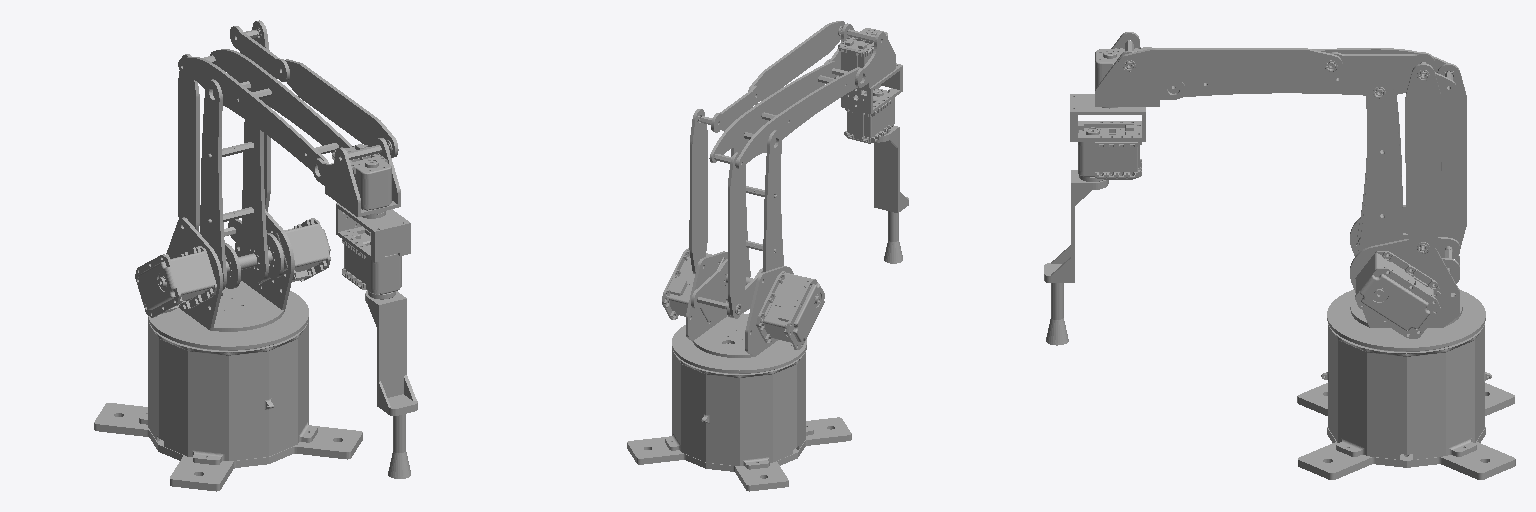
URDF robot description (palletizer_model):
<?xml version="1.0" ?>
<robot name="palletizer_model" xmlns:xacro="http://www.ros.org/wiki/xacro">
	<link name ="world"/>
	<joint name="pal_base" type="fixed">
		<parent link="world"/>
		<child link="pal_link0"/>
		<origin xyz = "0 0 0.05" rpy="0 0 -1.57" />
		<axis xyz="0 1 0" />
	</joint>

	<link name="pal_link0">
		<collision>
			<origin xyz = "0 0 0" rpy="0 0 0" />
			<geometry>
				<mesh filename="package://palletizer_model_pkg/meshes/link0.stl" scale="0.001 0.001 0.001"/>
			</geometry>
		</collision>
		<visual>
			<geometry>
				<mesh filename="package://palletizer_model_pkg/meshes/link0.stl" scale="0.001 0.001 0.001"/>
			</geometry>
			<material name="grey">
    				<color rgba="0.7 0.7 0.7 1.0"/>
  			</material>
		</visual>
	</link>
	<joint name="pal_joint0" type="continuous">
		<parent link="pal_link0"/>
		<child link="pal_link1"/>
		<origin xyz = "0 0 0.107" rpy="0 0 1.57" />
		<axis xyz="0 0 1" />
	</joint>
	<link name="pal_link1">
		<collision>
			<origin xyz = "0 0 0" rpy="0 0 0" />
			<geometry>
				<mesh filename="package://palletizer_model_pkg/meshes/link1.stl" scale="0.001 0.001 0.001"/>
			</geometry>
		</collision>
		<visual>
			<geometry>
				<mesh filename="package://palletizer_model_pkg/meshes/link1.stl" scale="0.001 0.001 0.001"/>
			</geometry>
			<material name="grey">
    				<color rgba="0.7 0.7 0.7 1.0"/>
  			</material>
		</visual>
	</link>
	<joint name="pal_joint1" type="revolute">
		<parent link="pal_link1"/>
		<child link="pal_link2"/>
		<origin xyz = "-0.0065 -0.021131 0.04662" rpy="0 -1.57 0" />
		<axis xyz="0 0 -1" />
		<limit effort="1.0" lower="-1.57" upper="1.57" velocity="5.0"/>
	</joint>
	<link name="pal_link2">
		<collision>
			<origin xyz = "0 0 0" rpy="0 0 0" />
			<geometry>
				<mesh filename="package://palletizer_model_pkg/meshes/link2.stl" scale="0.001 0.001 0.001"/>
			</geometry>
		</collision>
		<visual>
			<geometry>
				<mesh filename="package://palletizer_model_pkg/meshes/link2.stl" scale="0.001 0.001 0.001"/>
			</geometry>
			<material name="grey">
    				<color rgba="0.7 0.7 0.7 1.0"/>
  			</material>
		</visual>
	</link>
	<joint name="pal_joint2" type="revolute">
		<parent link="pal_link1"/>
		<child link="pal_link8"/>
		<origin xyz = "0.0065 -0.02113 0.04636" rpy="0 0 0" />
		<axis xyz="-1 0 0" />
		<limit effort="1.0" lower="-1.57" upper="1.57" velocity="5.0"/>
	</joint>
	<link name="pal_link3">
		<collision>
			<origin xyz = "0 0 0" rpy="0 0 0" />
			<geometry>
				<mesh filename="package://palletizer_model_pkg/meshes/link3.stl" scale="0.001 0.001 0.001"/>
			</geometry>
		</collision>
		<visual>
			<geometry>
				<mesh filename="package://palletizer_model_pkg/meshes/link3.stl" scale="0.001 0.001 0.001"/>
			</geometry>
			<material name="grey">
    				<color rgba="0.7 0.7 0.7 1.0"/>
  			</material>
		</visual>
	</link>
	<link name="pal_link4">
		<collision>
			<origin xyz = "0 0 0" rpy="0 0 0" />
			<geometry>
				<mesh filename="package://palletizer_model_pkg/meshes/link4.stl" scale="0.001 0.001 0.001"/>
			</geometry>
		</collision>
		<visual>
			<geometry>
				<mesh filename="package://palletizer_model_pkg/meshes/link4.stl" scale="0.001 0.001 0.001"/>
			</geometry>
			<material name="grey">
    				<color rgba="0.7 0.7 0.7 1.0"/>
  			</material>
		</visual>
	</link>
	<joint name="pal_joint3" type="revolute">
		<parent link="pal_link4"/>
		<child link="pal_link4_1"/>
		<origin xyz = "0 -0.0495 -0.017" rpy="0 0 0" />
		<axis xyz="0 0 -1" />
		<limit effort="1.0" lower="-3.14" upper="3.14" velocity="5.0"/>
	</joint>
	<link name="pal_link4_1">
		<collision>
			<origin xyz = "0 0 0" rpy="0 0 0" />
			<geometry>
				<mesh filename="package://palletizer_model_pkg/meshes/link4_1.stl" scale="0.001 0.001 0.001"/>
			</geometry>
		</collision>
		<visual>
			<geometry>
				<mesh filename="package://palletizer_model_pkg/meshes/link4_1.stl" scale="0.001 0.001 0.001"/>
			</geometry>
			<material name="grey">
    				<color rgba="0.7 0.7 0.7 1.0"/>
  			</material>
		</visual>
	</link>
	<joint name="prisos_joint" type="fixed">
		<parent link="pal_link4_1"/>
		<child link="prisos"/>
		<origin xyz = "0.001 -0.041 -0.066" rpy="0 0 -1.57" />
	</joint>
	<link name="prisos">
		<collision>
			<origin xyz = "0 0 0" rpy="0 0 0" />
			<geometry>
				<mesh filename="package://palletizer_model_pkg/meshes/prisos.stl" scale="0.001 0.001 0.001"/>
			</geometry>
		</collision>
		<visual>
			<geometry>
				<mesh filename="package://palletizer_model_pkg/meshes/prisos.stl" scale="0.001 0.001 0.001"/>
			</geometry>
			<material name="grey">
    				<color rgba="0.7 0.7 0.7 1.0"/>
  			</material>
		</visual>
	</link>
	<joint name="pal_joint4" type="continuous">
		<parent link="pal_link3"/>
		<child link="pal_link4"/>
		<origin xyz = "-0.160 0 0" rpy="-1.57 -1.57 0" />
		<axis xyz="1 0 0" />
		<mimic joint="pal_joint1" multiplier="-1" offset="0"/>
	</joint>
	<joint name="pal_joint10" type="continuous">
		<parent link="pal_link1"/>
		<child link="pal_link5"/>
		<origin xyz = "0.0339 0.01328 0.070418" rpy="1.57 0 3.14" />
		<axis xyz="1 0 0" />
		<mimic joint="pal_joint1" multiplier="1" offset="0"/>
	</joint>
	<link name="pal_link5">
		<collision>
			<origin xyz = "0 0 0" rpy="0 0 0" />
			<geometry>
				<mesh filename="package://palletizer_model_pkg/meshes/link5.stl" scale="0.001 0.001 0.001"/>
			</geometry>
		</collision>
		<visual>
			<geometry>
				<mesh filename="package://palletizer_model_pkg/meshes/link5.stl" scale="0.001 0.001 0.001"/>
			</geometry>
			<material name="grey">
    				<color rgba="0.7 0.7 0.7 1.0"/>
  			</material>
		</visual>
	</link>
	<joint name="pal_joint5" type="continuous">
		<parent link="pal_link2"/>
		<child link="pal_link6"/>
		<origin xyz = "0.148 0 -0.0205" rpy="0 0 0" />
		<axis xyz="0 0 1" />
		<mimic joint="pal_joint3" multiplier="-1" offset="0"/>
	</joint>
	<link name="pal_link6">
		<collision>
			<origin xyz = "0 0 0" rpy="0 0 0" />
			<geometry>
				<mesh filename="package://palletizer_model_pkg/meshes/link6.stl" scale="0.001 0.001 0.001"/>
			</geometry>
		</collision>
		<visual>
			<geometry>
				<mesh filename="package://palletizer_model_pkg/meshes/link6.stl" scale="0.001 0.001 0.001"/>
			</geometry>
			<material name="grey">
    				<color rgba="0.7 0.7 0.7 1.0"/>
  			</material>
		</visual>
	</link>
	<joint name="pal_joint6" type="continuous">
		<parent link="pal_link4"/>
		<child link="pal_link7"/>
		<origin xyz = "0.024 -0.034404 0.02409" rpy="3.14 0 0" />
		<axis xyz="1 0 0" />
		<mimic joint="pal_joint3" multiplier="-1" offset="0"/>
	</joint>
	<link name="pal_link7">
		<collision>
			<origin xyz = "0 0 0" rpy="0 0 0" />
			<geometry>
				<mesh filename="package://palletizer_model_pkg/meshes/link7.stl" scale="0.001 0.001 0.001"/>
			</geometry>
		</collision>
		<visual>
			<geometry>
				<mesh filename="package://palletizer_model_pkg/meshes/link7.stl" scale="0.001 0.001 0.001"/>
			</geometry>
			<material name="grey">
    				<color rgba="0.7 0.7 0.7 1.0"/>
  			</material>
		</visual>
	</link>
	<joint name="pal_joint7" type="continuous">
		<parent link="pal_link2"/>
		<child link="pal_link3"/>
		<origin xyz = "0.148 0 0" rpy="0 3.14 -1.57" />
		<axis xyz="0 0 1" />
		<mimic joint="pal_joint2" multiplier="1" offset="0"/>
	</joint>

	<link name="pal_link8">
		<collision>
			<origin xyz = "0 0 0" rpy="0 0 0" />
			<geometry>
				<mesh filename="package://palletizer_model_pkg/meshes/link8.stl" scale="0.001 0.001 0.001"/>
			</geometry>
		</collision>
		<visual>
			<geometry>
				<mesh filename="package://palletizer_model_pkg/meshes/link8.stl" scale="0.001 0.001 0.001"/>
			</geometry>
			<material name="grey">
    				<color rgba="0.7 0.7 0.7 1.0"/>
  			</material>
		</visual>
	</link>
	<joint name="pal_joint8" type="continuous">
		<parent link="pal_link8"/>
		<child link="pal_link9"/>
		<origin xyz = "-0.021 0.054 0" rpy="1.57 0 0" />
		<axis xyz="1 0 0" />
		<mimic joint="pal_joint1" multiplier="-1" offset="0"/>
	</joint>
	<link name="pal_link9">
		<collision>
			<origin xyz = "0 0 0" rpy="0 0 0" />
			<geometry>
				<mesh filename="package://palletizer_model_pkg/meshes/link9.stl" scale="0.001 0.001 0.001"/>
			</geometry>
		</collision>
		<visual>
			<geometry>
				<mesh filename="package://palletizer_model_pkg/meshes/link9.stl" scale="0.001 0.001 0.001"/>
			</geometry>
			<material name="grey">
    				<color rgba="0.7 0.7 0.7 1.0"/>
  			</material>
		</visual>
	</link>

</robot>

--- Render facts (derived) ---
Views: 3 orthographic renders of the robot side by side, from view 1: azimuth 30°, elevation 25°; view 2: azimuth 150°, elevation 25°; view 3: azimuth 270°, elevation 25°.
Robot: palletizer_model — 13 links, 12 joints (3 revolute, 7 continuous, 2 fixed); root link world; default pose: all joints at 0.
Visible links, largest first — view 1: pal_link0, pal_link1, pal_link3, pal_link2, pal_link4_1, prisos, pal_link4, pal_link7, pal_link9, pal_link8, pal_link6, pal_link5; view 2: pal_link0, pal_link1, pal_link3, pal_link4_1, pal_link2, prisos, pal_link4, pal_link5, pal_link9, pal_link7, pal_link8, pal_link6; view 3: pal_link0, pal_link1, pal_link7, pal_link5, pal_link2, pal_link4_1, pal_link9, pal_link3, pal_link4, pal_link6, prisos, pal_link8.
Link boxes in pixels (x1,y1,x2,y2): pal_link0: (94,291,362,491); pal_link1: (135,209,330,331); pal_link3: (178,49,351,174); pal_link2: (200,79,268,290); pal_link4_1: (336,203,410,299); prisos: (365,291,417,478); pal_link4: (312,138,400,216); pal_link7: (285,59,398,157); pal_link9: (178,54,199,231); pal_link8: (199,219,283,288); pal_link6: (230,26,289,81); pal_link5: (244,20,270,211); pal_link0: (627,313,851,491); pal_link1: (662,248,824,357); pal_link3: (709,61,862,169); pal_link4_1: (841,63,902,143); pal_link2: (731,130,783,277); prisos: (874,126,908,263); pal_link4: (824,23,895,88); pal_link5: (689,109,712,273); pal_link9: (728,152,745,318); pal_link7: (748,21,844,101); pal_link8: (691,259,762,317); pal_link6: (711,85,760,132); pal_link0: (1297,289,1515,479); pal_link1: (1350,205,1462,338); pal_link7: (1118,48,1342,81); pal_link5: (1405,62,1441,257); pal_link2: (1357,89,1402,252); pal_link4_1: (1070,94,1145,181); pal_link9: (1437,63,1466,248); pal_link3: (1167,48,1455,97); pal_link4: (1095,32,1184,106); pal_link6: (1326,52,1434,102); prisos: (1044,170,1108,345); pal_link8: (1357,233,1459,278).
Bounding box of the posed robot: 0.1696 × 0.3664 × 0.3398 m (x, y, z).
12 mesh visuals loaded from 12 distinct referenced files (12 binary STL).